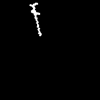double_crochet: (30, 3, 40, 35)
